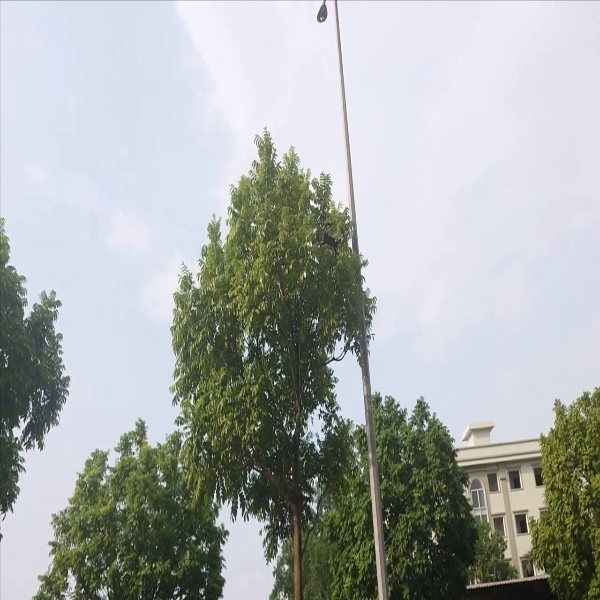drone: (314, 219, 352, 262)
